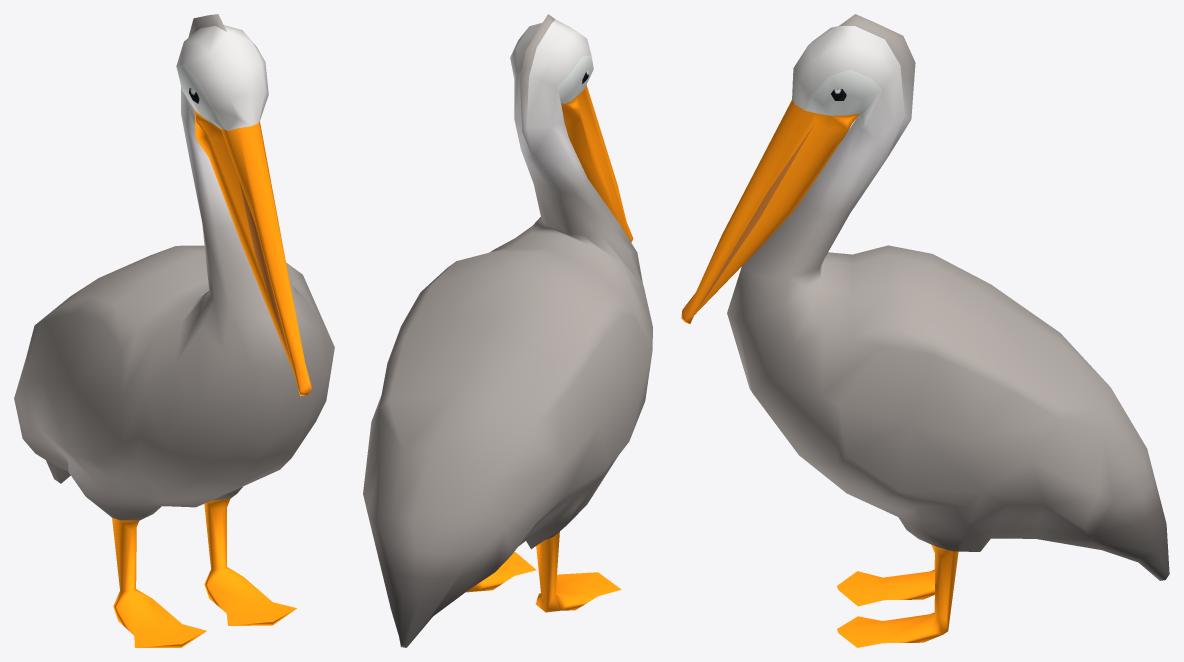
Rendered from Pelican.glb.
The picture shows the model from 3 angles, left to right: view 1: azimuth 30°, elevation 25°; view 2: azimuth 150°, elevation 25°; view 3: azimuth 270°, elevation 25°; orthographic projection. The views are drawn at different scales.
Parts seen in each view (by area): view 1: Pelican; view 2: Pelican; view 3: Pelican.
Part boxes in pixels (<box>): Pelican: <box>14,14,334,647</box>; Pelican: <box>363,14,652,647</box>; Pelican: <box>681,14,1169,647</box>.
Size of what is drawn, in the model's own units: 0.4325 by 1.1 by 0.8097.
Materials: 1 (1 with a texture image).
